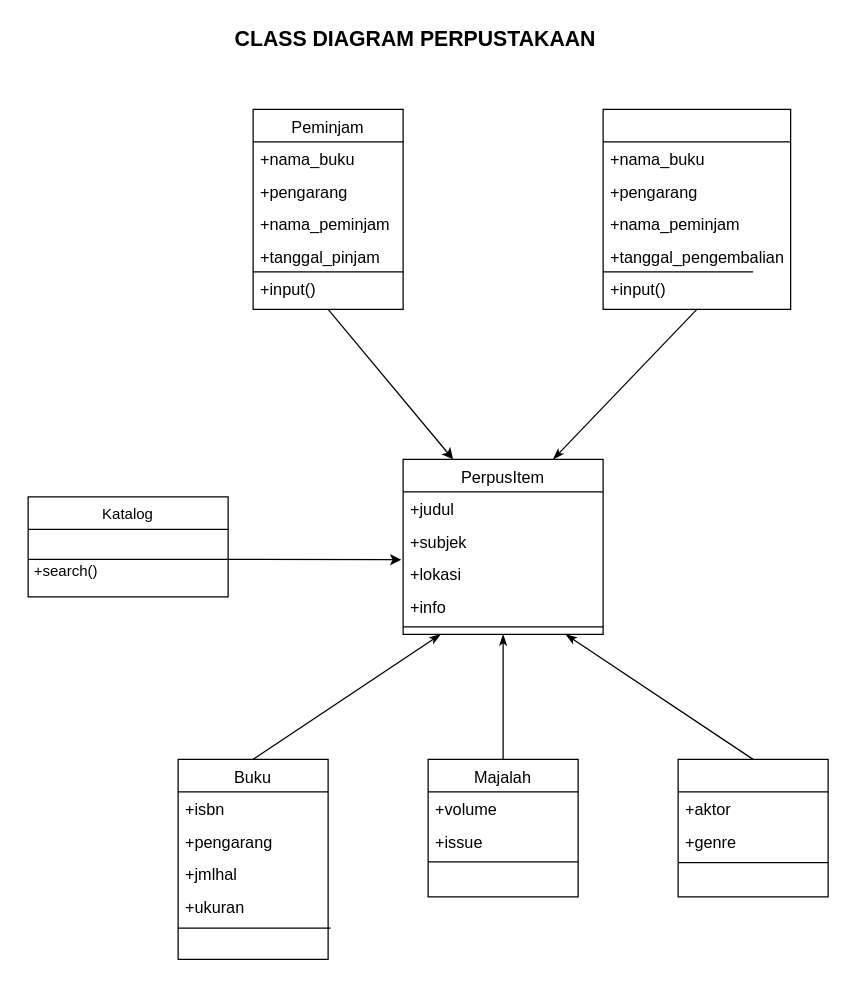
The diagram is 851 pixels wide and 981 high, and some of its shapes have lost their labels. The box of each missing label's shape, as (x1, y1, x2, y2) in pixels:
DVD: (677, 758, 828, 897)
Pengemblian: (602, 108, 791, 309)
